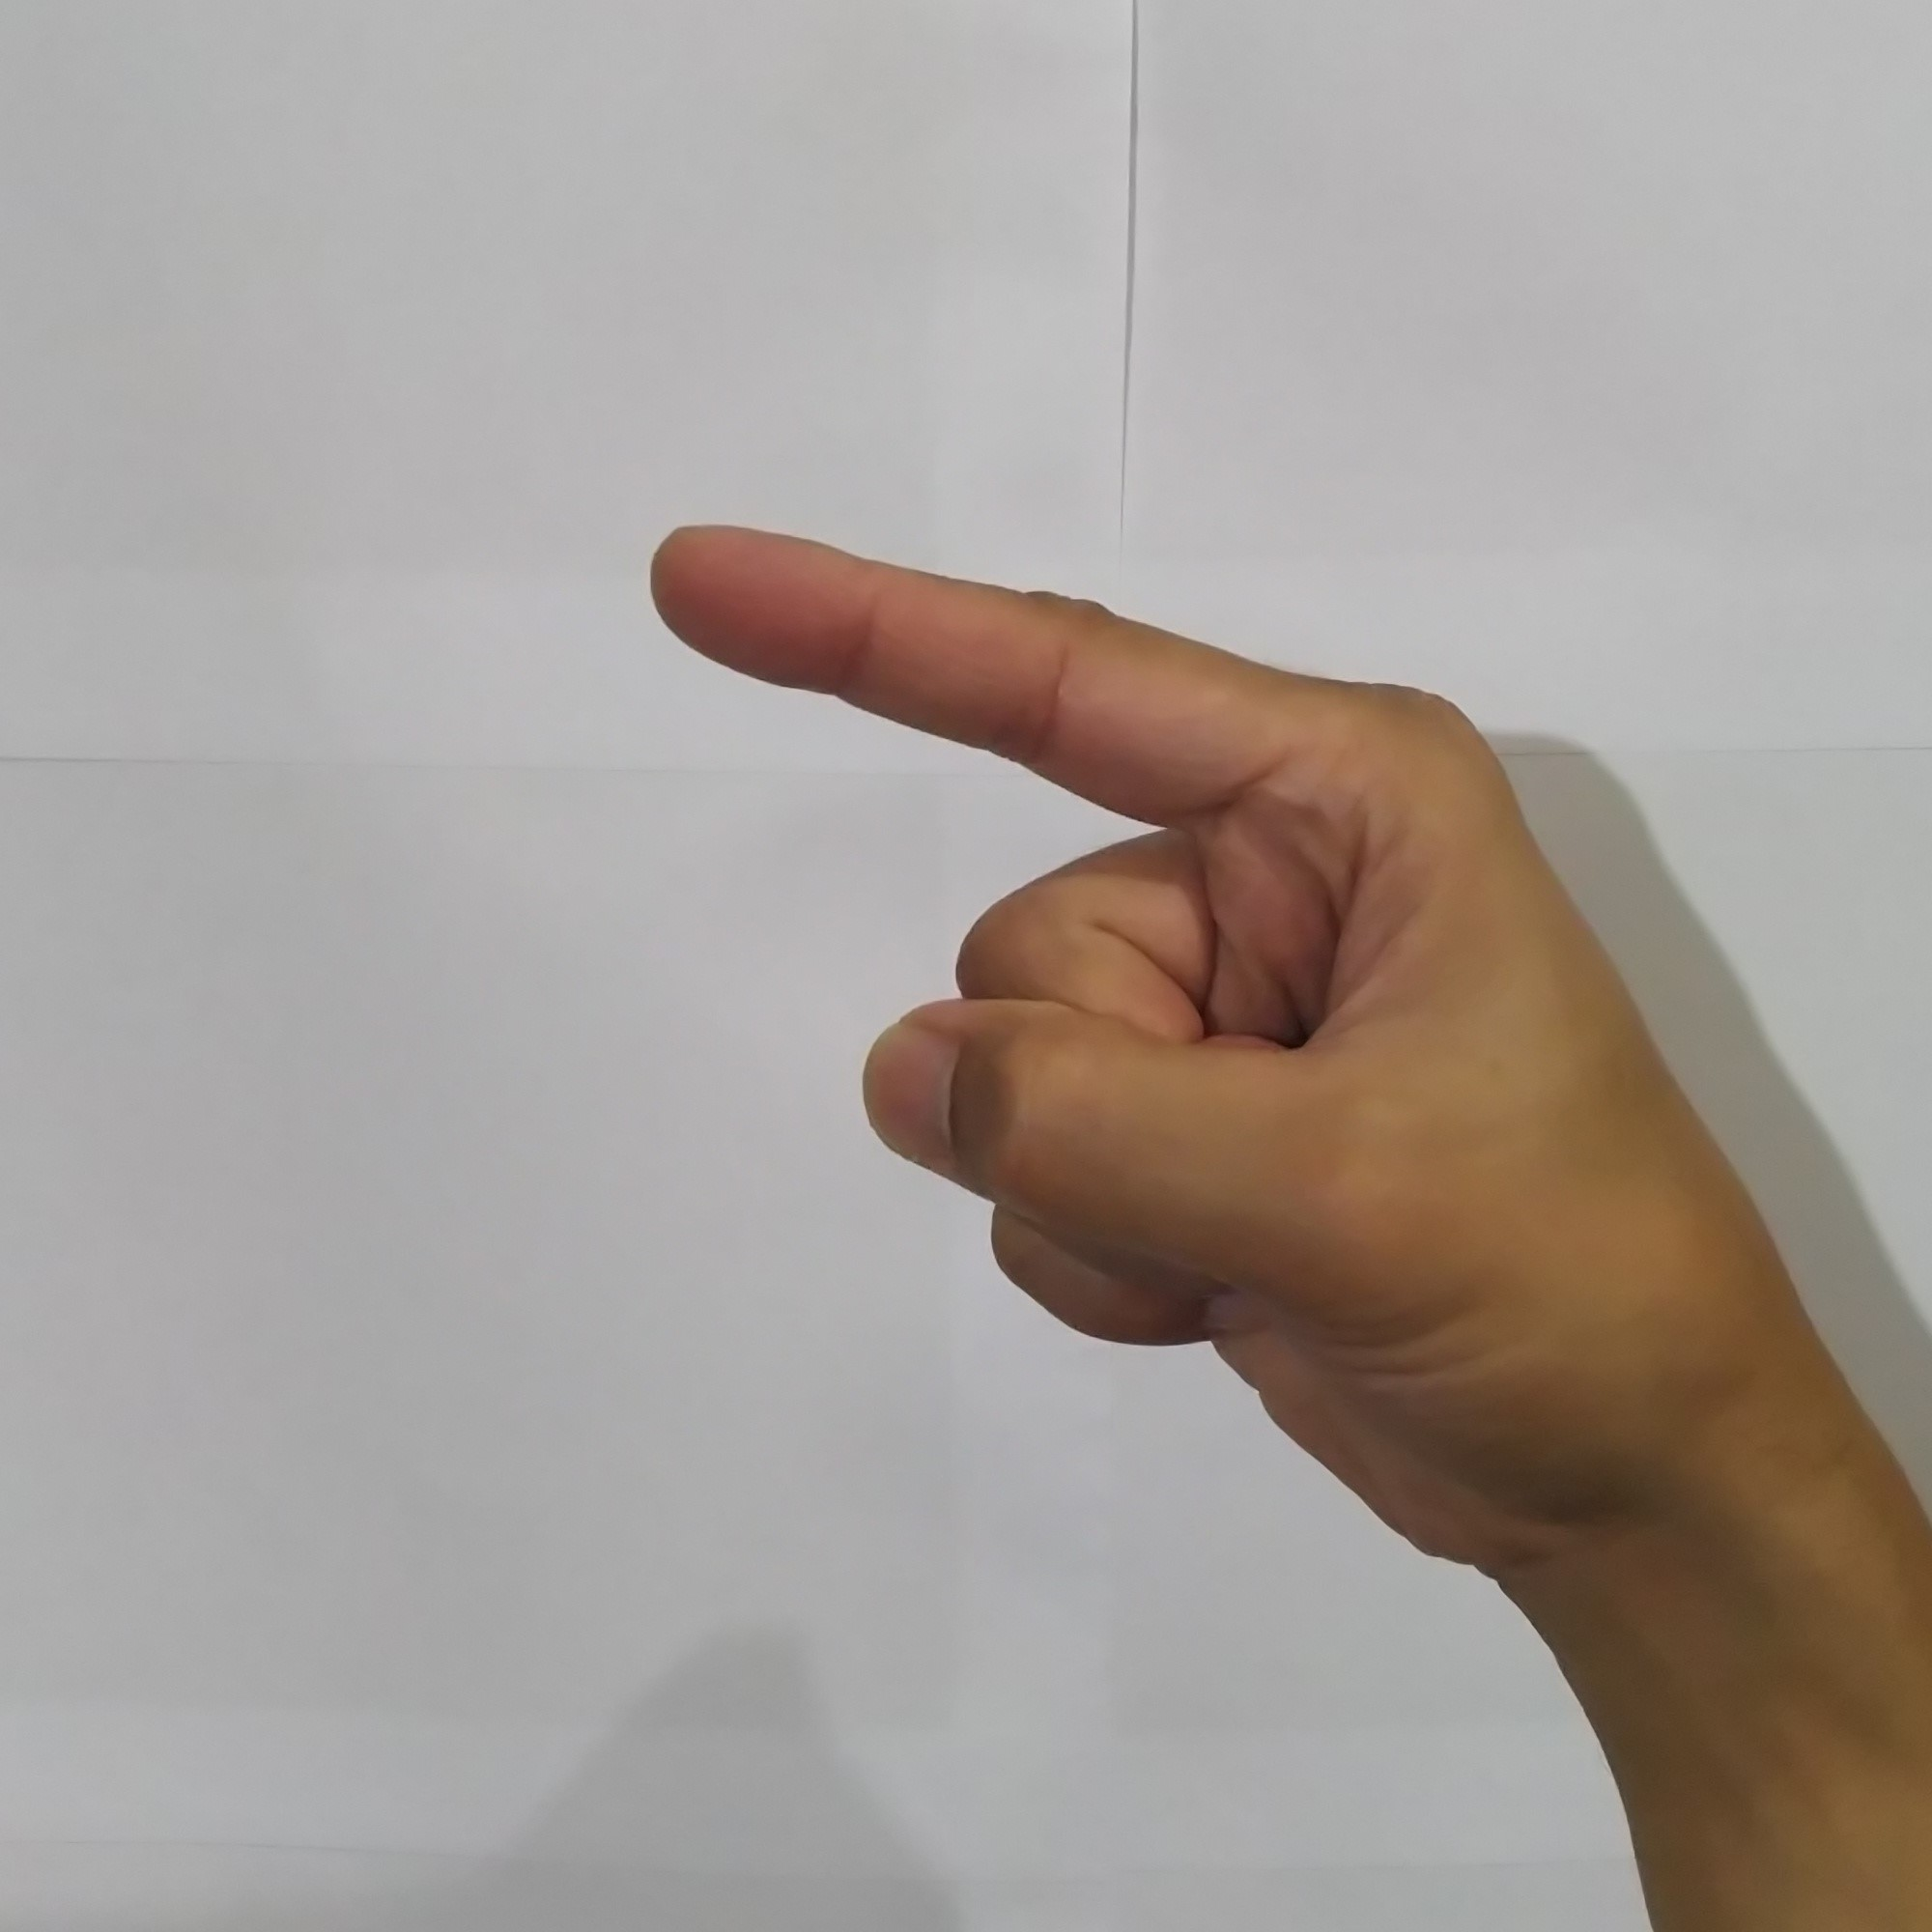Z: (616, 472, 1798, 1564)
